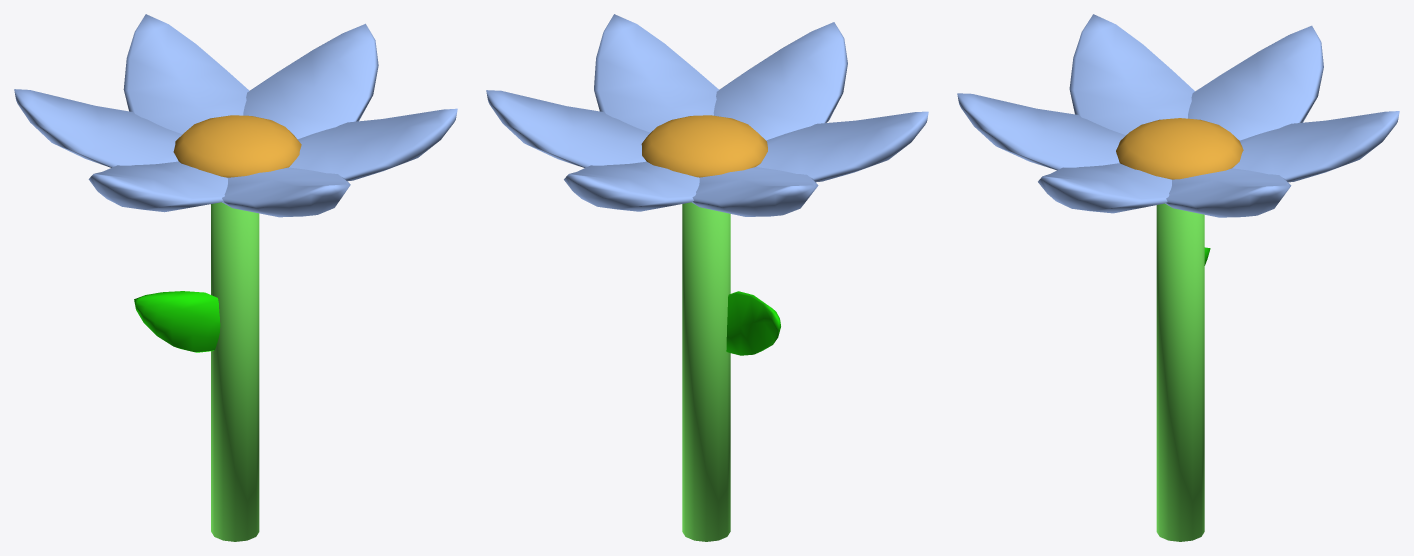
Rendered from flower.fbx.
3 renders of one model, left to right at view 1: azimuth 30°, elevation 25°; view 2: azimuth 150°, elevation 25°; view 3: azimuth 270°, elevation 25°, orthographic.
Parts seen in each view (by area): view 1: NurbsPath.001, Cylinder, Sphere.009, NurbsPath.002; view 2: NurbsPath.001, Cylinder, Sphere.009, NurbsPath.002; view 3: NurbsPath.001, Cylinder, Sphere.009.
Boxes of the visible parts, x1,y1,x2,y2 form: NurbsPath.001: (14,14,457,217); Cylinder: (211,202,259,541); Sphere.009: (173,115,301,177); NurbsPath.002: (134,291,220,352); NurbsPath.001: (486,14,928,216); Cylinder: (682,202,730,541); Sphere.009: (641,115,767,177); NurbsPath.002: (726,291,780,355); NurbsPath.001: (957,14,1399,217); Cylinder: (1156,203,1204,541); Sphere.009: (1116,118,1243,179).
Bounding box in the file's own units: 51.57 × 59.89 × 55.75.
